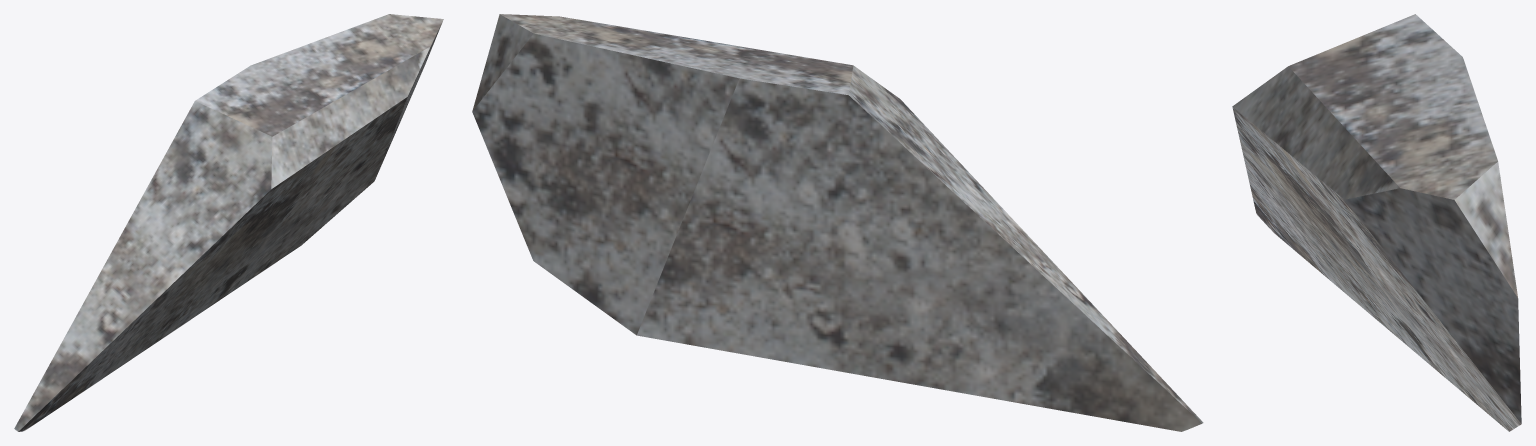
File: Asteroid_Medium_001_02_002_03_011.fbx
3 views of the same model, side by side, from view 1: azimuth 30°, elevation 25°; view 2: azimuth 150°, elevation 25°; view 3: azimuth 270°, elevation 25° (orthographic). The views are drawn at different scales.
Parts seen in each view (by area): view 1: Asteroid_Medium_001_02_002_03_011; view 2: Asteroid_Medium_001_02_002_03_011; view 3: Asteroid_Medium_001_02_002_03_011.
Part boxes in pixels (x1=…): Asteroid_Medium_001_02_002_03_011: x1=14, y1=14, x2=443, y2=431; Asteroid_Medium_001_02_002_03_011: x1=472, y1=14, x2=1203, y2=431; Asteroid_Medium_001_02_002_03_011: x1=1232, y1=14, x2=1521, y2=431.
Size of the model in its own units: 10.02 by 5.03 by 3.26.
